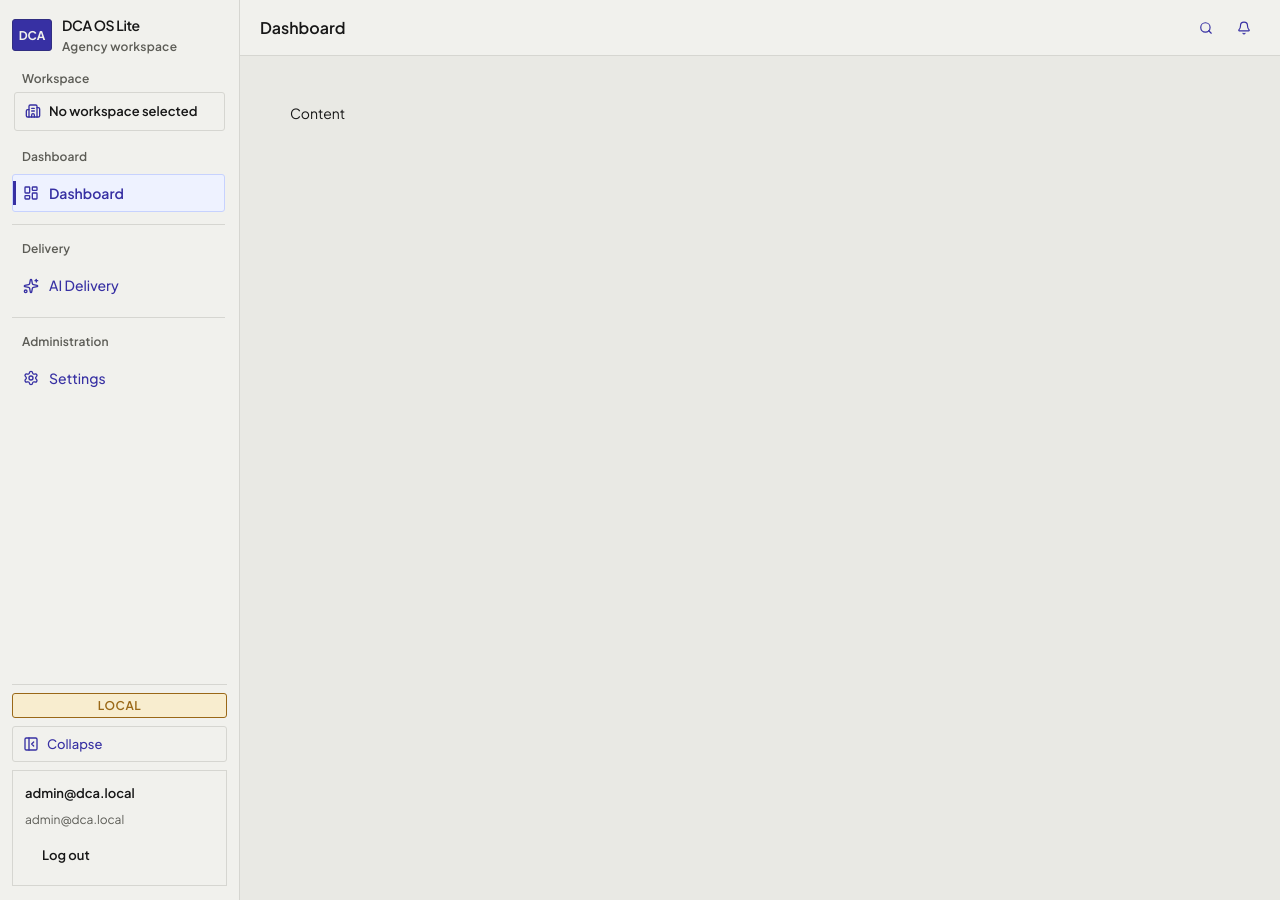
Test: AppLayout public contract › opens notification panel as empty UI-only surface and closes on Escape
Step 1. Click the button named "Open notifications" → (1244, 28), box [1228, 12, 1260, 44]
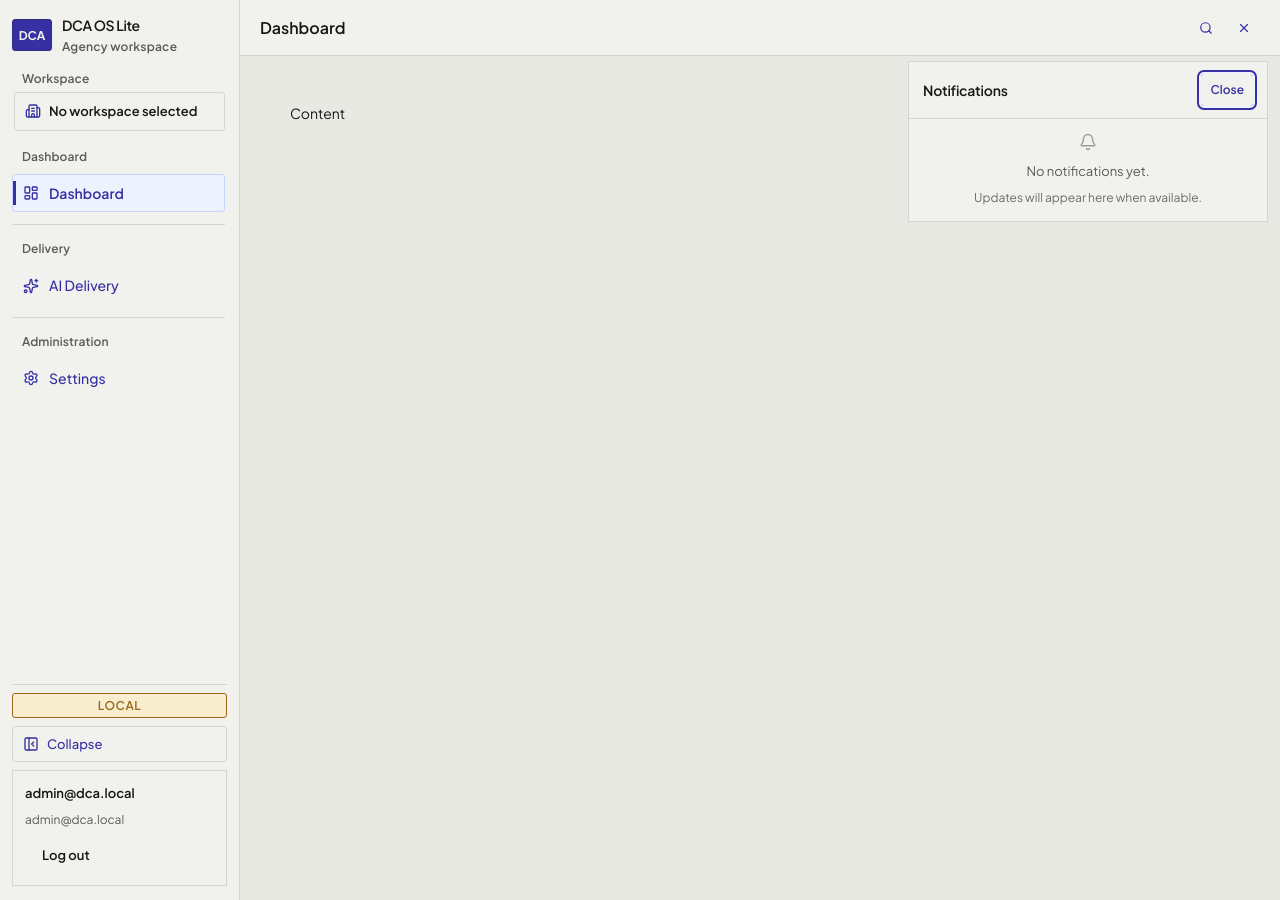
Expected: the text "No notifications yet." is shown, [1026, 161, 1150, 182]
Step 2. Press Escape
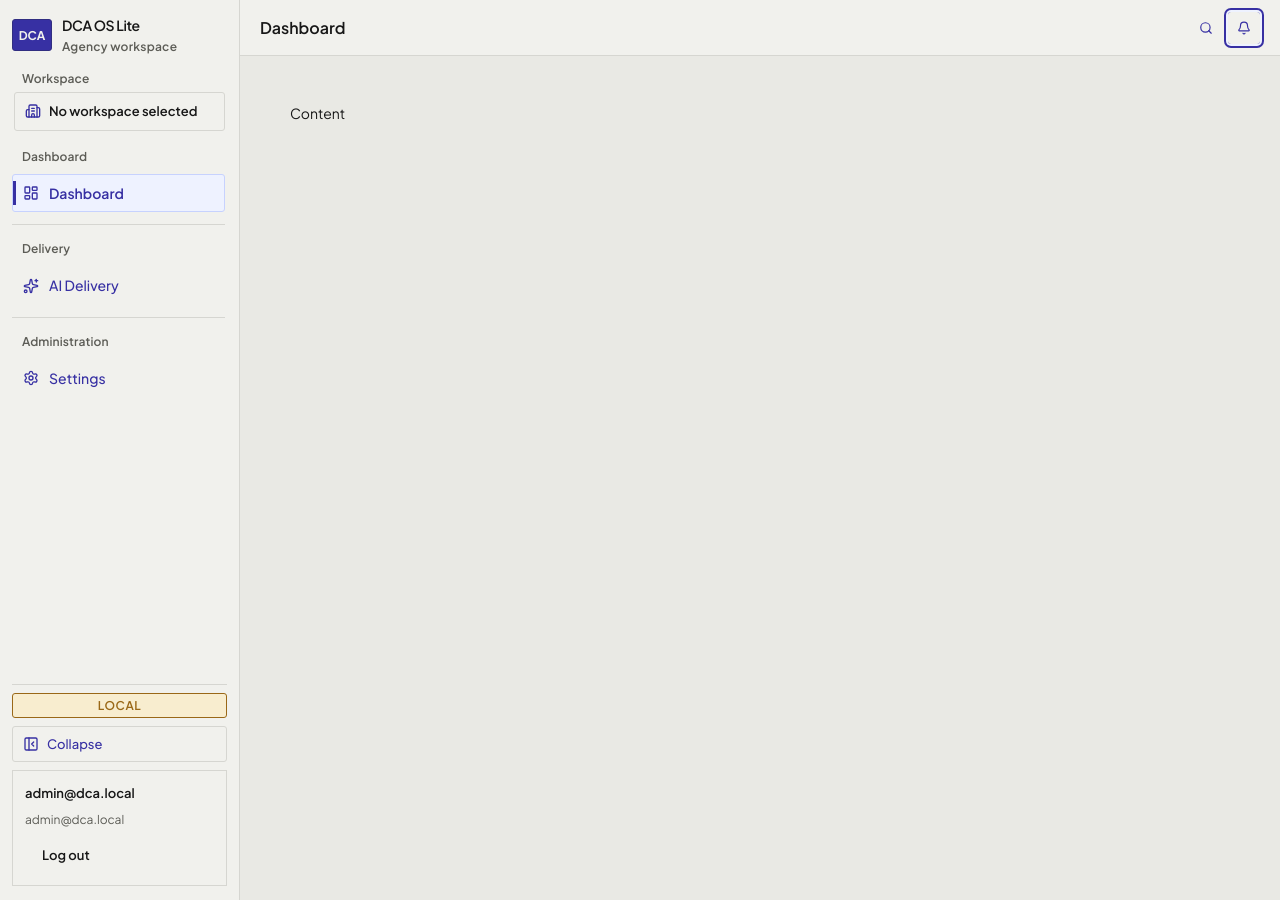
Expected: the heading "Notifications" is gone
